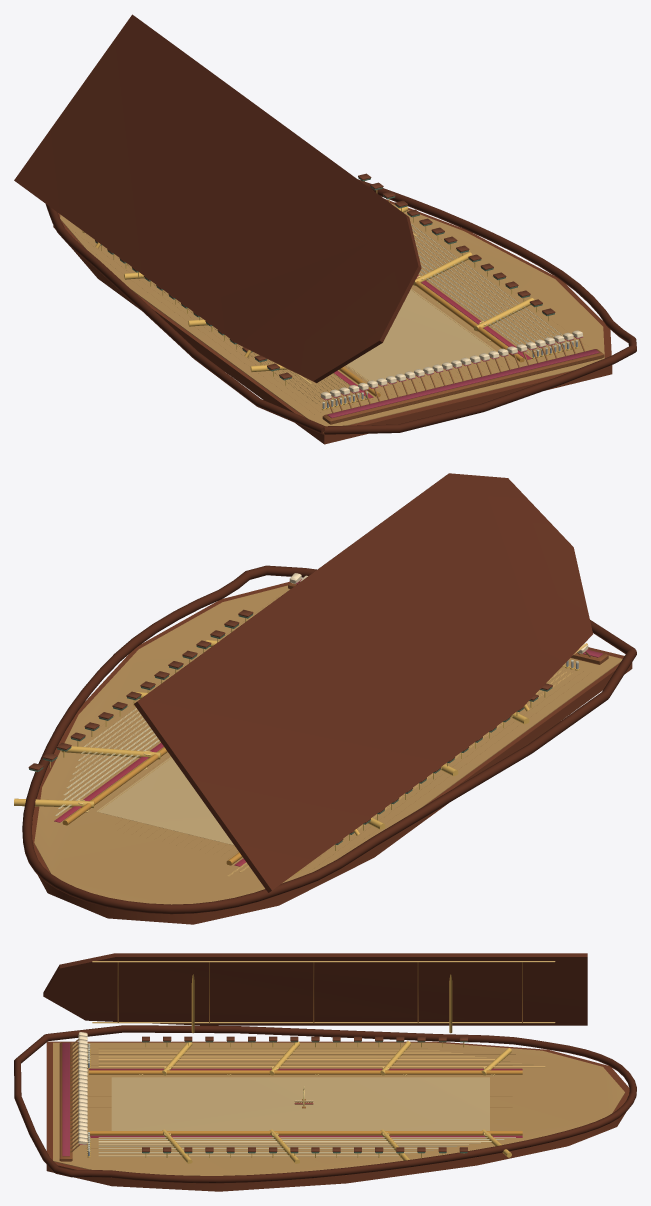
The model's file is mundo-piano.glb.
3 renders of one model, top to bottom at view 1: azimuth 30°, elevation 25°; view 2: azimuth 150°, elevation 25°; view 3: azimuth 270°, elevation 25°, orthographic. The views are drawn at different scales.
Visible parts, largest first — view 1: Tabla y tapa, Fieltros, Cuerdas y clavijas, Arpa y molduras; view 2: Tabla y tapa, Arpa y molduras, Cuerdas y clavijas, Fieltros; view 3: Tabla y tapa, Cuerdas y clavijas, Arpa y molduras, Fieltros.
Part boxes in pixels (box(x1,y1,x2,y2)): Tabla y tapa: box(14, 14, 636, 444); Fieltros: box(95, 177, 599, 418); Cuerdas y clavijas: box(127, 224, 578, 408); Arpa y molduras: box(82, 181, 578, 432); Tabla y tapa: box(22, 473, 636, 924); Arpa y molduras: box(14, 618, 587, 873); Cuerdas y clavijas: box(55, 591, 578, 876); Fieltros: box(29, 573, 602, 866); Tabla y tapa: box(14, 953, 636, 1191); Cuerdas y clavijas: box(87, 1043, 545, 1156); Arpa y molduras: box(87, 961, 555, 1163); Fieltros: box(62, 1032, 522, 1156).
Bounding box in the file's own units: 112 × 49.98 × 191.
